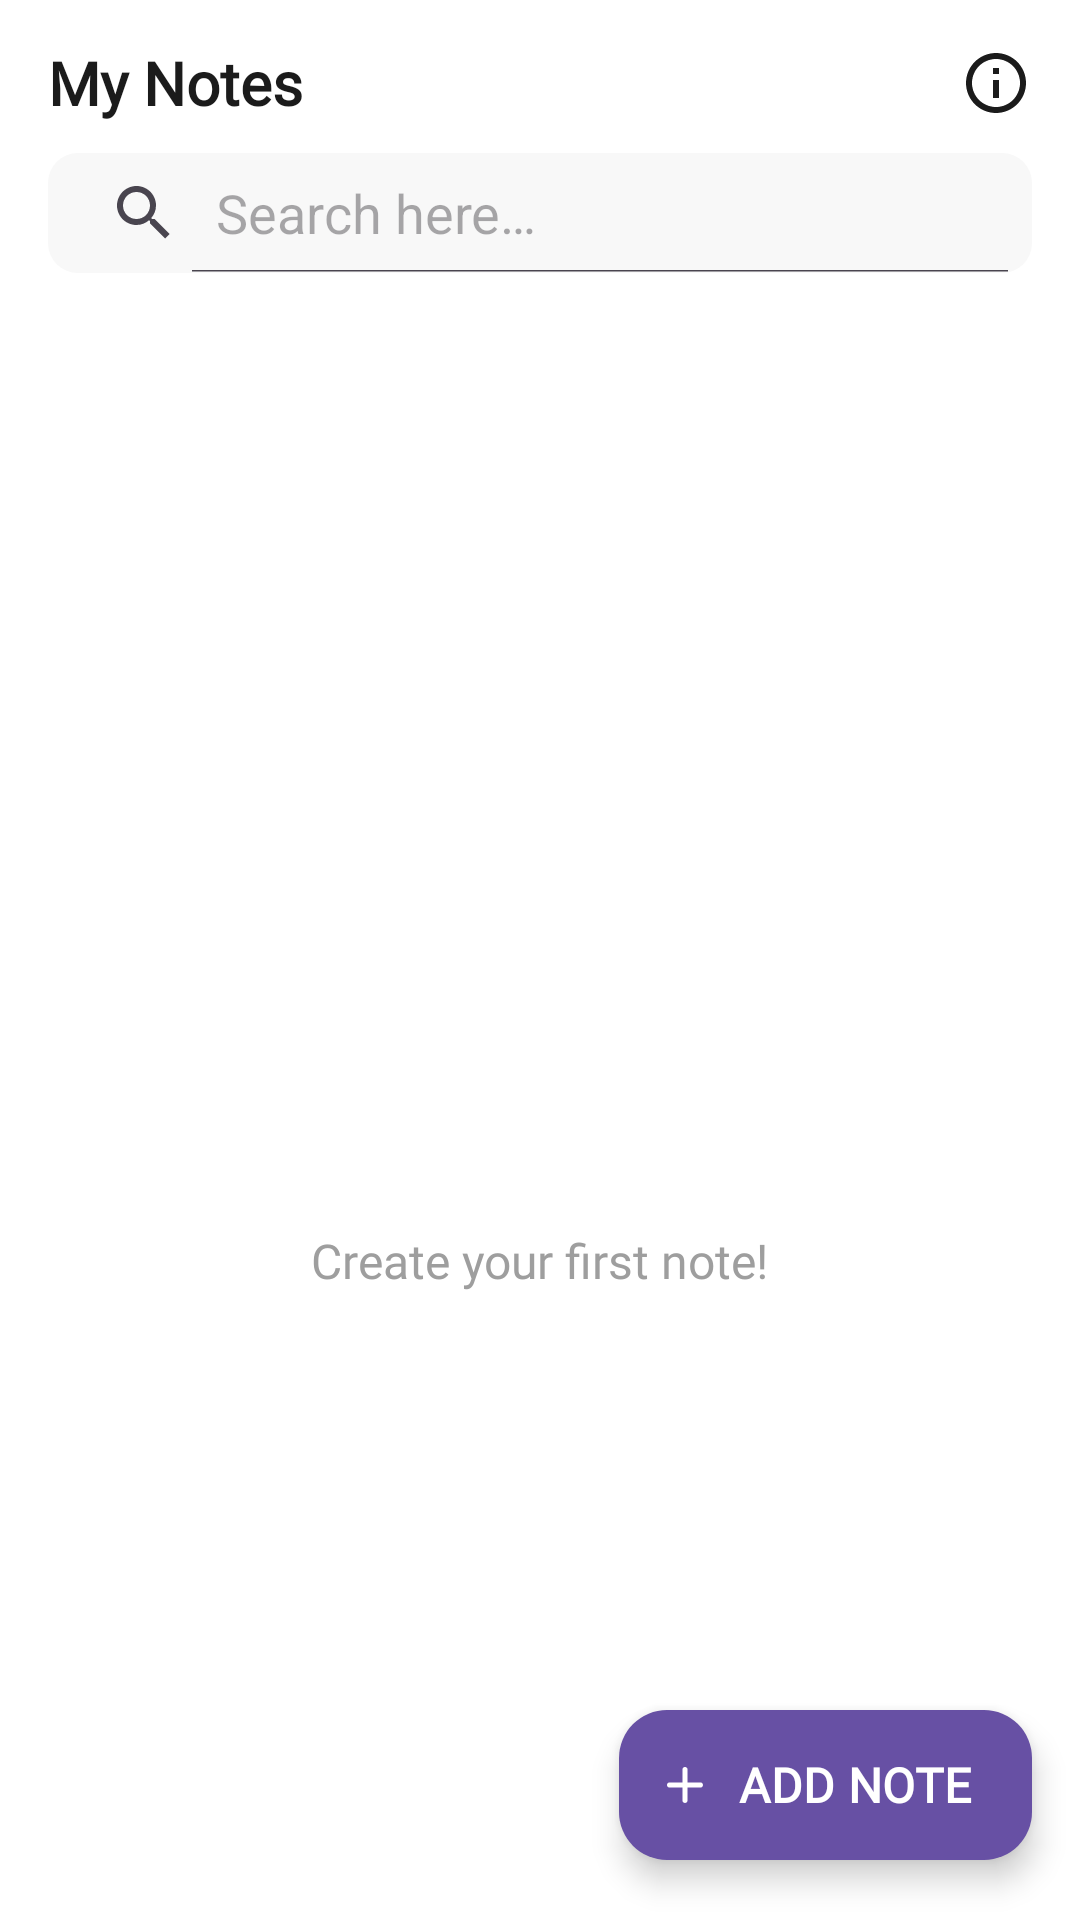

Icon bounding boxes for this 1080*1920 phone screenshot, format (x1, y1, x2, y2):
About Button: (966, 53, 1026, 113)
